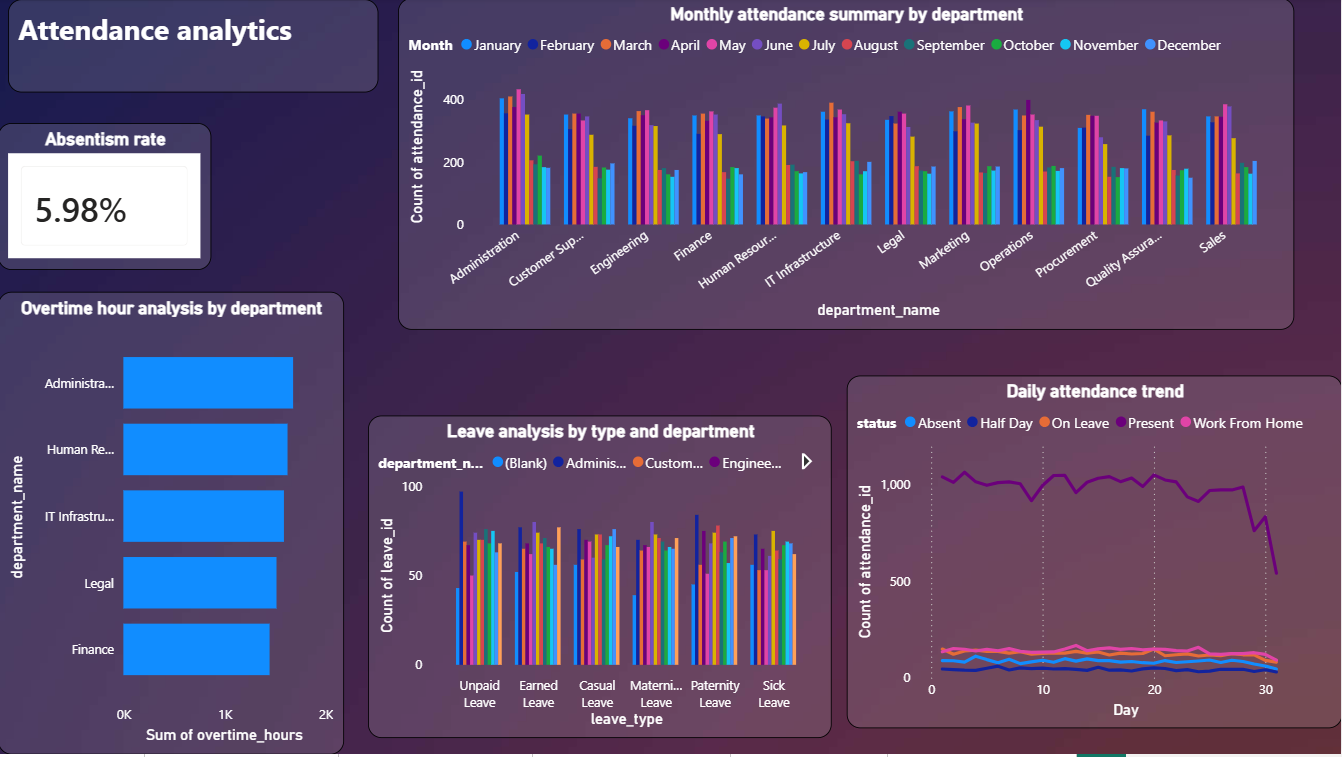

What the dashboard file says about the page in this screenshot:
{"tool":"powerbi","page":{"name":" Attendence Analytics","canvas":[1280,720],"ordinal":2},"visuals":[{"type":"lineChart","title":"Daily attendance trend","fields":{"Y":["CountNonNull(cleaned_attendance.attendance_id)"],"Series":["cleaned_attendance.status"],"Category":["cleaned_attendance.attendance_date.Variation.Date Hierarchy.Day"]},"box":[808.2,359.5,472,336.2],"z":0},{"type":"clusteredColumnChart","title":"Monthly attendance summary by department","fields":{"Category":["cleaned_departments.department_name"],"Y":["CountNonNull(cleaned_attendance.attendance_id)"],"Series":["cleaned_attendance.attendance_date.Variation.Date Hierarchy.Month"]},"box":[381.5,0,853.5,315.6],"z":1000},{"type":"clusteredColumnChart","title":"Leave analysis by type  and department","fields":{"Category":["cleaned_leaves.leave_type"],"Y":["CountNonNull(cleaned_leaves.leave_id)"],"Series":["cleaned_departments.department_name"]},"box":[352.7,397.9,441.9,307.4],"z":2000},{"type":"clusteredBarChart","title":"Overtime hour analysis by department","fields":{"Category":["cleaned_departments.department_name"],"Y":["Sum(cleaned_attendance.overtime_hours)"]},"box":[0,279.9,329.3,440.5],"z":3000},{"type":"cardVisual","title":"Absentism rate","fields":{"Data":["clean_payroll.Absentism Rate"]},"box":[0,119.4,203.1,140],"z":4000},{"type":"textbox","box":[9.6,1.4,352.7,89.2],"z":5000}]}

Visuals, with their boxes in screenshot pixels (x1, y1, x2, y2), scaled from the page's 1280x720 canvas onto the 1342x757 screenshot:
"Daily attendance trend" lineChart: rect(847, 378, 1341, 731)
"Monthly attendance summary by department" clusteredColumnChart: rect(400, 0, 1295, 332)
"Leave analysis by type  and department" clusteredColumnChart: rect(370, 418, 833, 742)
"Overtime hour analysis by department" clusteredBarChart: rect(0, 294, 345, 756)
"Absentism rate" cardVisual: rect(0, 126, 213, 273)
textbox: rect(10, 1, 380, 95)
